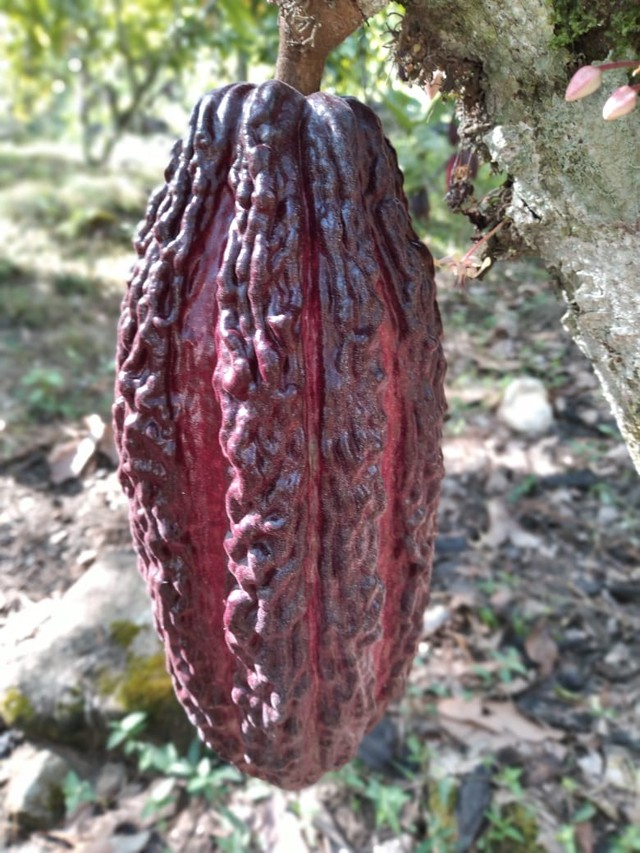Health: (97, 66, 457, 799)
